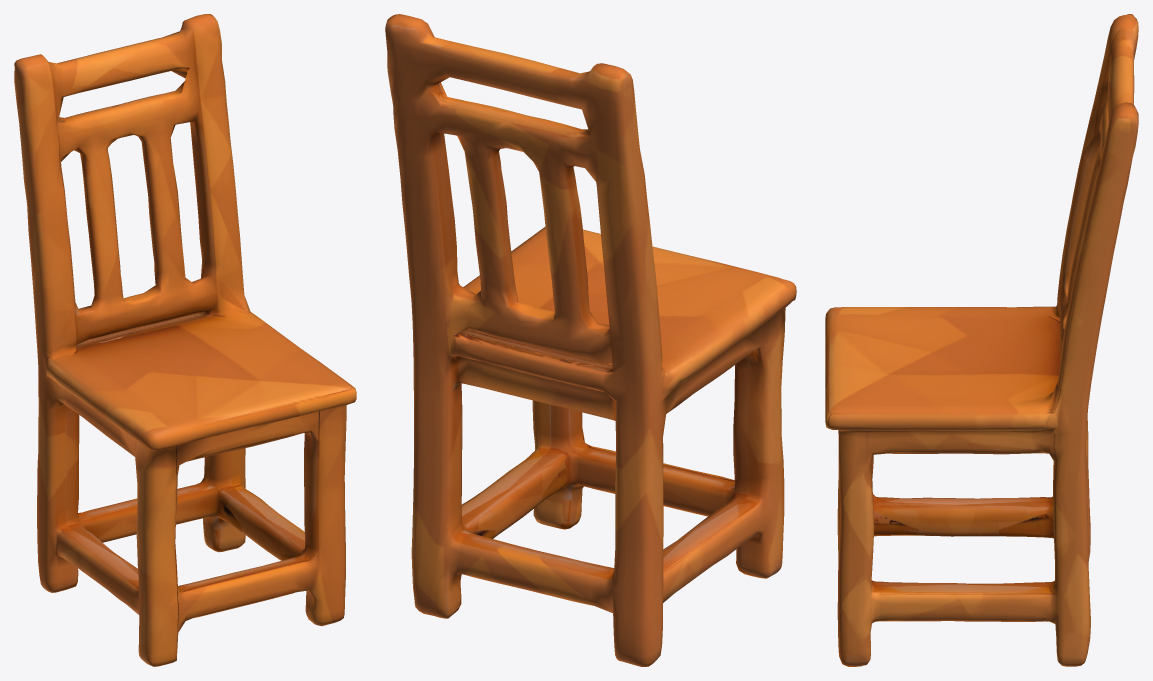
The model's file is Chair.glb.
3 views of the same model, side by side, from view 1: azimuth 30°, elevation 25°; view 2: azimuth 150°, elevation 25°; view 3: azimuth 270°, elevation 25° (orthographic). The views are drawn at different scales.
Size of the model in its own units: 0.8141 by 1.91 by 0.9792.
1 material, 1 textured.
